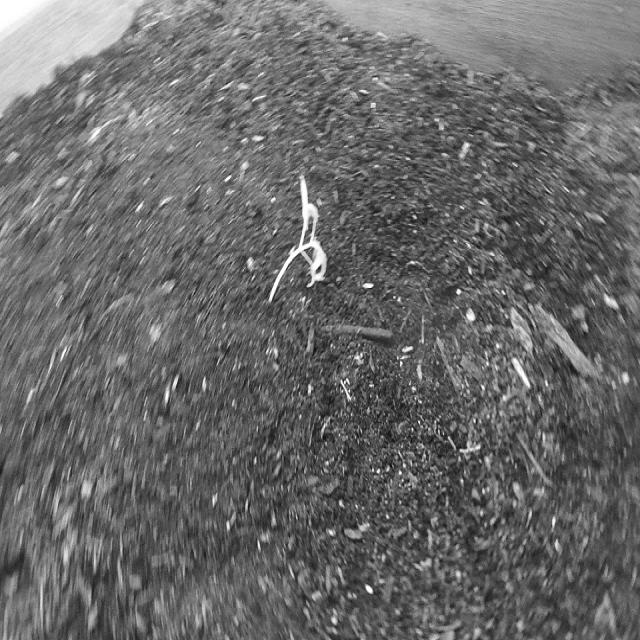Unhealthy: (263, 168, 331, 316)
